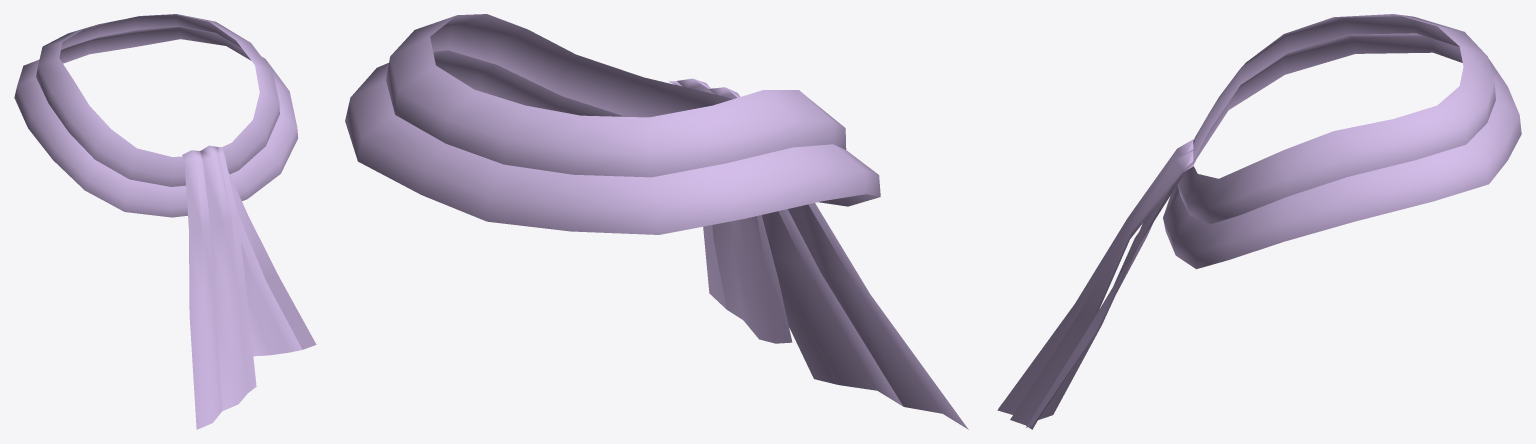
Rendered from ascot_neck.glb.
3 renders of one model, left to right at view 1: azimuth 30°, elevation 25°; view 2: azimuth 150°, elevation 25°; view 3: azimuth 270°, elevation 25°, orthographic. The views are drawn at different scales.
Visible parts, largest first — view 1: ascot_neck; view 2: ascot_neck; view 3: ascot_neck.
Boxes of the visible parts, <box> form: ascot_neck: <box>14,14,316,429</box>; ascot_neck: <box>345,14,968,429</box>; ascot_neck: <box>997,14,1521,429</box>.
Bounding box in the file's own units: 0.1458 × 0.1589 × 0.1928.
